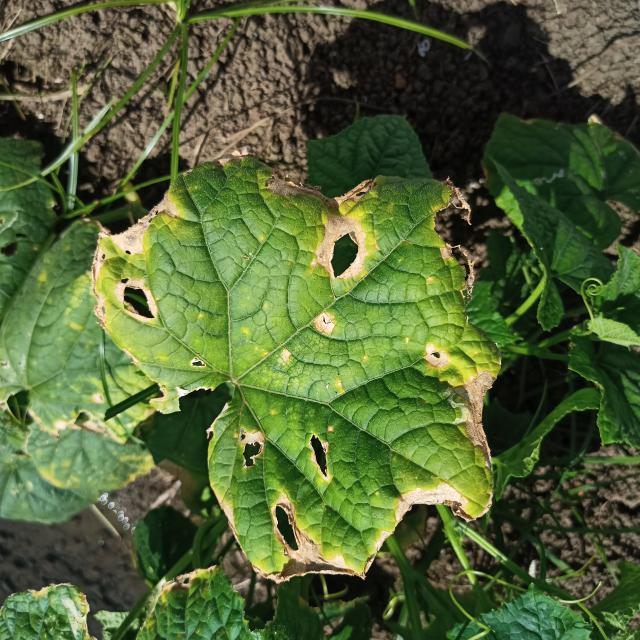disease_cucumber: (93, 155, 502, 579)
